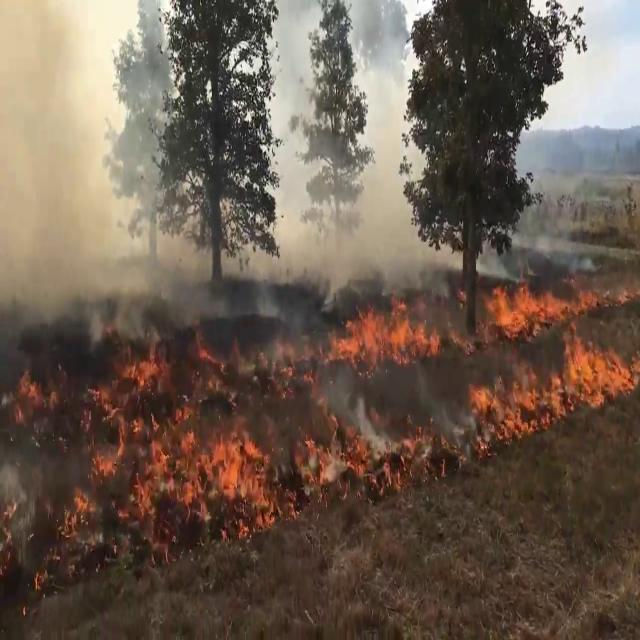Fire: (68, 333, 334, 553), (476, 328, 640, 430), (322, 297, 446, 368), (476, 278, 602, 334)
Smoke: (0, 0, 220, 342), (257, 118, 452, 330)
